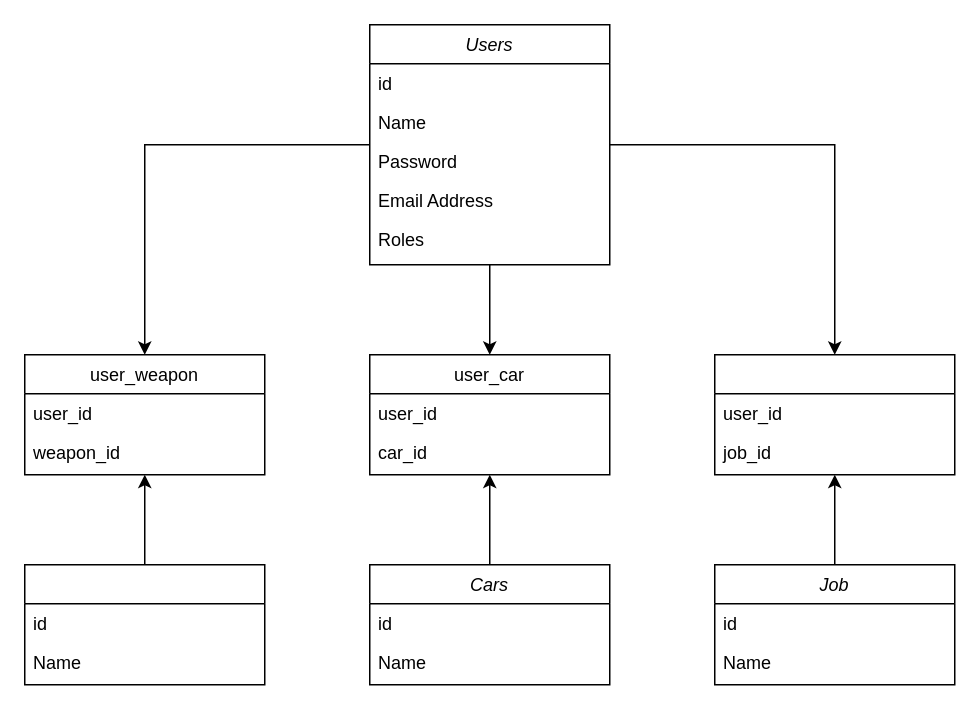
Image size: 980x710. Some labels were removed from this diagram. Each missing label, with the box of its shape:
user_job: (713, 353, 955, 475)
Weapons: (23, 563, 265, 685)
